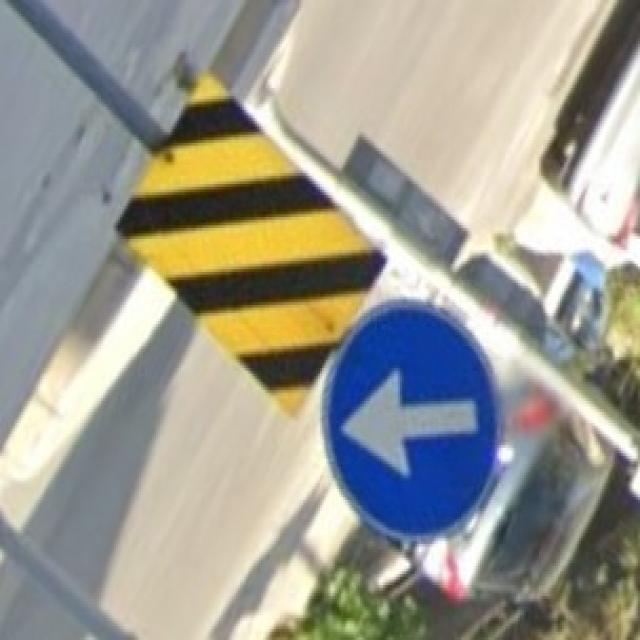Turn Left: (324, 309, 497, 542)
